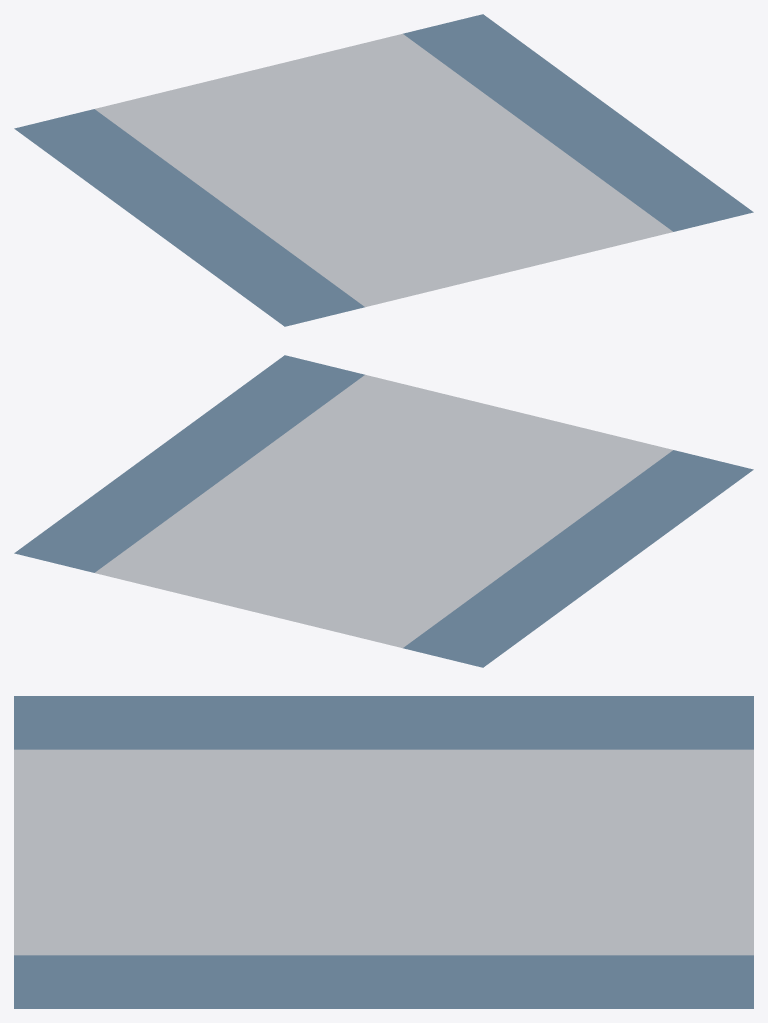
The model's file is M_FloorCross700x700Marine20-4.fbx.
3 renders of one model, top to bottom at view 1: azimuth 30°, elevation 25°; view 2: azimuth 150°, elevation 25°; view 3: azimuth 270°, elevation 25°, orthographic. The views are drawn at different scales.
Visible parts, largest first — view 1: M_FloorCross700x700Marine20-4; view 2: M_FloorCross700x700Marine20-4; view 3: M_FloorCross700x700Marine20-4.
Boxes of the visible parts, x1,y1,x2,y2 form: M_FloorCross700x700Marine20-4: (14, 14, 753, 326); M_FloorCross700x700Marine20-4: (14, 355, 753, 667); M_FloorCross700x700Marine20-4: (14, 696, 753, 1008).
Size of the model in its own units: 7 by 1.45e-06 by 7.
